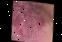plaque psoriasis: (8, 0, 56, 42)
